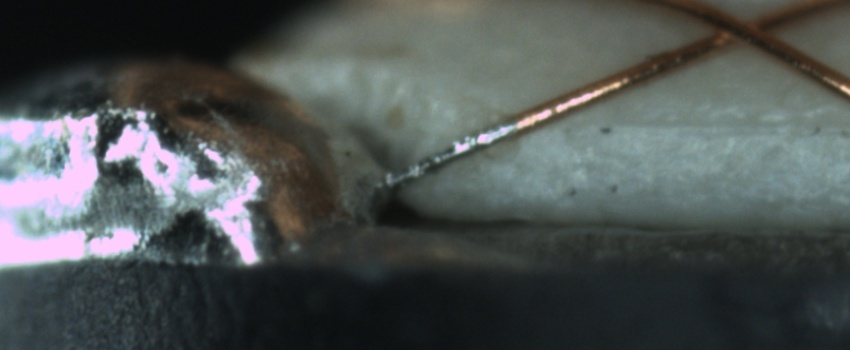CL: (694, 3, 783, 55)
DL: (549, 95, 845, 159)
TS: (387, 117, 518, 193)
